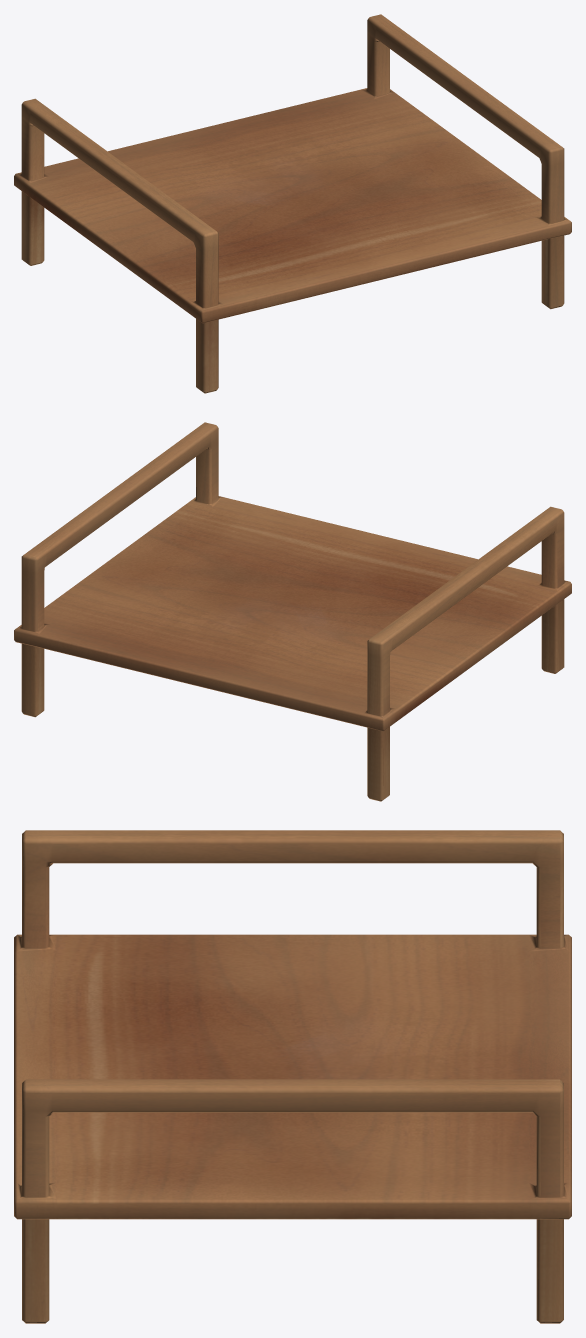
File: BedFrameGuest.fbx
The picture shows the model from 3 angles, top to bottom: view 1: azimuth 30°, elevation 25°; view 2: azimuth 150°, elevation 25°; view 3: azimuth 270°, elevation 25°; orthographic projection. The views are drawn at different scales.
Visible parts, largest first — view 1: Frame; view 2: Frame; view 3: Frame.
Boxes of the visible parts, x1,y1,x2,y2 form: Frame: (14,14,571,393); Frame: (14,422,571,801); Frame: (14,830,571,1323).
Bounding box in the file's own units: 4 × 1.65 × 3.53.
